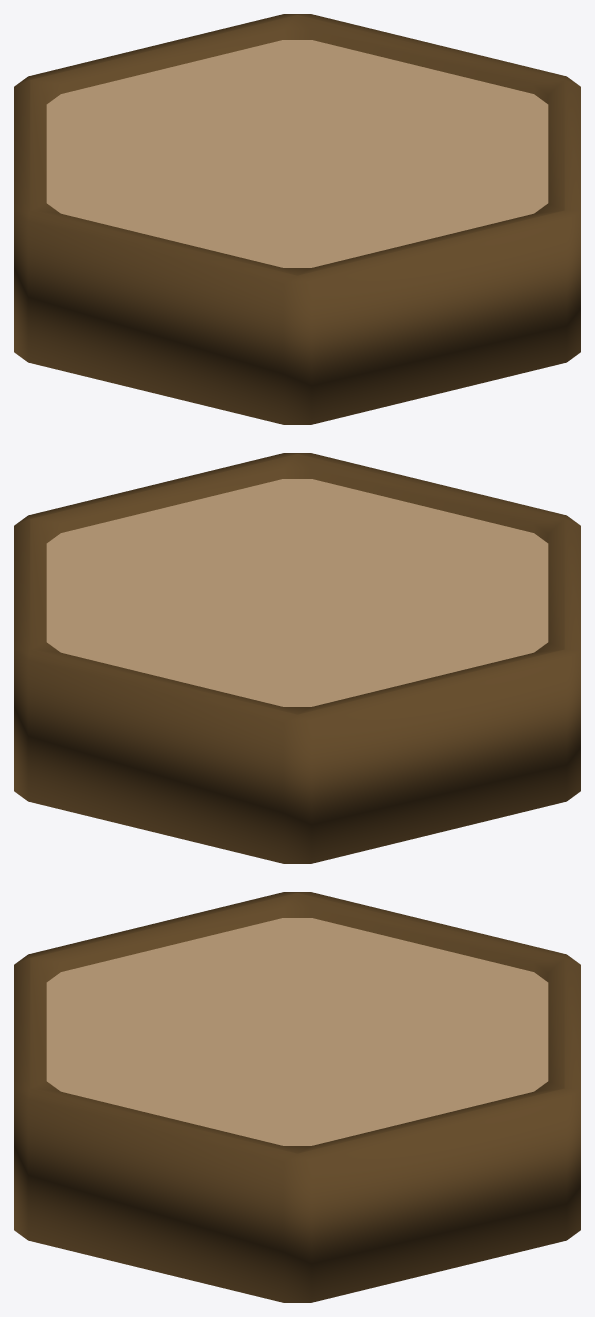
The model's file is MostLowpolyHex.fbx.
3 views of the same model, one above another, from view 1: azimuth 30°, elevation 25°; view 2: azimuth 150°, elevation 25°; view 3: azimuth 270°, elevation 25° (orthographic).
Visible parts, largest first — view 1: Cylinder.006, Cylinder.011; view 2: Cylinder.006, Cylinder.011; view 3: Cylinder.006, Cylinder.011.
Boxes of the visible parts, x1,y1,x2,y2 form: Cylinder.006: [14, 14, 580, 424]; Cylinder.011: [46, 40, 548, 267]; Cylinder.006: [14, 453, 580, 863]; Cylinder.011: [46, 479, 548, 706]; Cylinder.006: [14, 892, 580, 1302]; Cylinder.011: [46, 918, 548, 1145].
Size of the model in its own units: 195 by 173 by 50.
